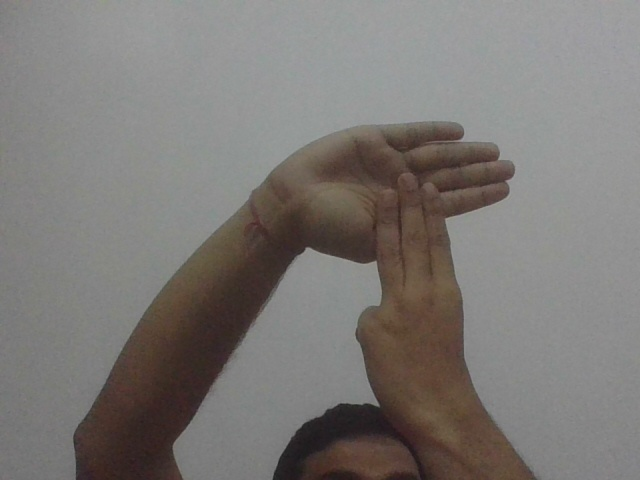M: (292, 120, 519, 330)
